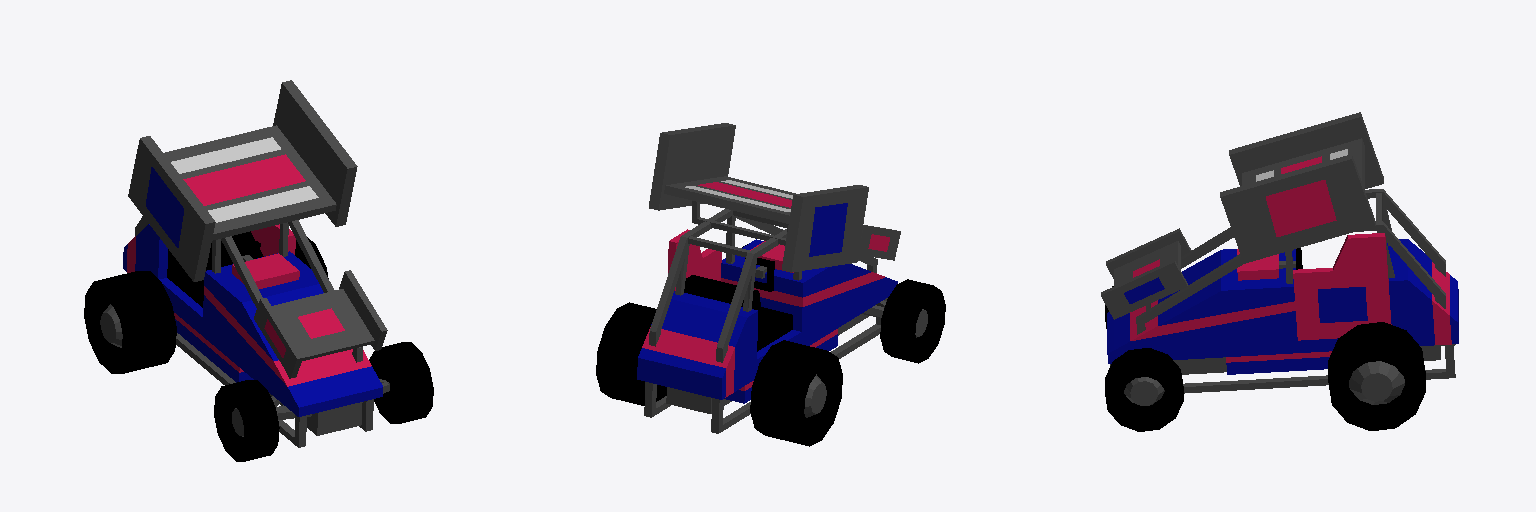
The model's file is Vehicle_07.obj.
The picture shows the model from 3 angles: view 1: azimuth 30°, elevation 25°; view 2: azimuth 150°, elevation 25°; view 3: azimuth 270°, elevation 25°; orthographic projection.
Visible parts, largest first — view 1: Veh_07_SR_Veh_SprintCar_Black; view 2: Veh_07_SR_Veh_SprintCar_Black; view 3: Veh_07_SR_Veh_SprintCar_Black.
Part boxes in pixels (x1,y1,x2,y2): Veh_07_SR_Veh_SprintCar_Black: (84,80,433,461); Veh_07_SR_Veh_SprintCar_Black: (596,123,945,446); Veh_07_SR_Veh_SprintCar_Black: (1101,112,1458,431).
Size of the model in its own units: 0.3212 by 0.408 by 0.5023.